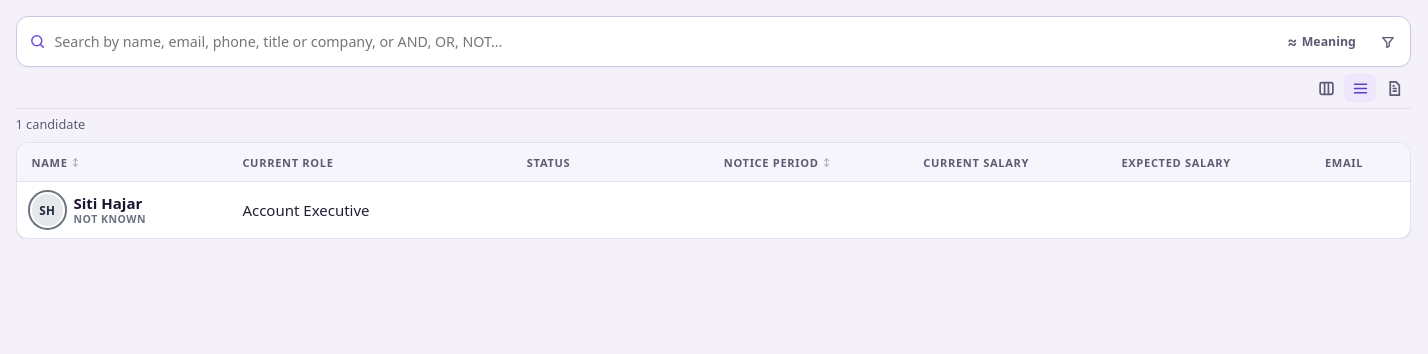
Test case: searching candidates by meaning › reads AND, OR, NOT and quotes as words when searching by meaning, and says they work in the word search
Expected: the link "Siti Hajar" is shown, x1=74 y1=193 x2=142 y2=213
Click the button "≈ Meaning": (1321, 42) x1=1277 y1=27 x2=1366 y2=56
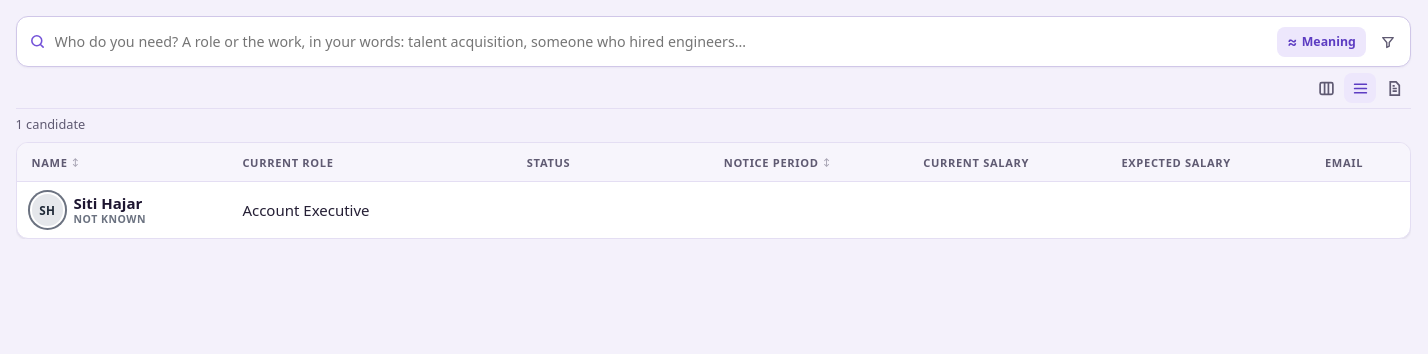
Replace the text in the field named "Search candidates by meaning" with "\"talent acquisition\" -agency": (662, 42) x1=52 y1=22 x2=1272 y2=62
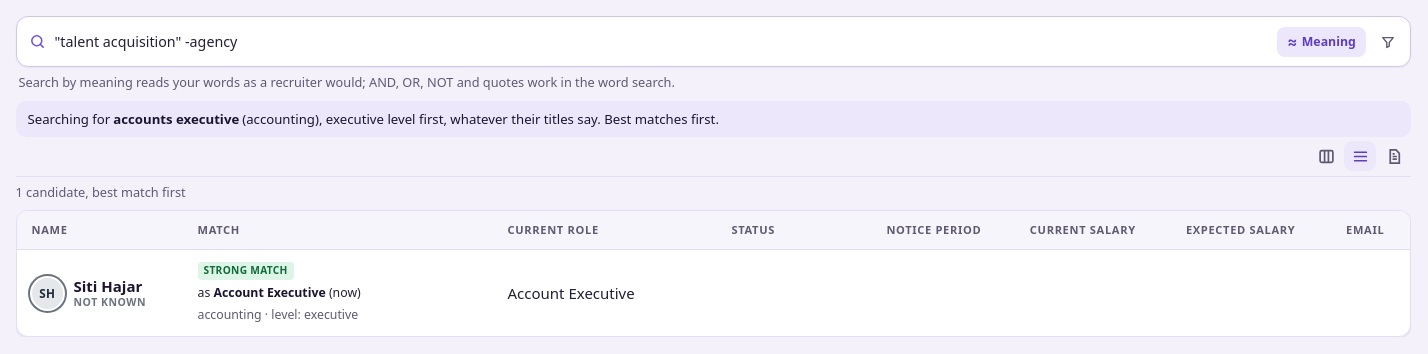
Expected: the text "Boolean" is not shown
Now the text "work in the word search" shows "Search by meaning reads your words as a recruiter would; AND, OR, NOT and quotes work in the word search.", box x1=18 y1=73 x2=675 y2=91
Click the button "≈ Meaning": (1321, 42) x1=1277 y1=27 x2=1366 y2=56
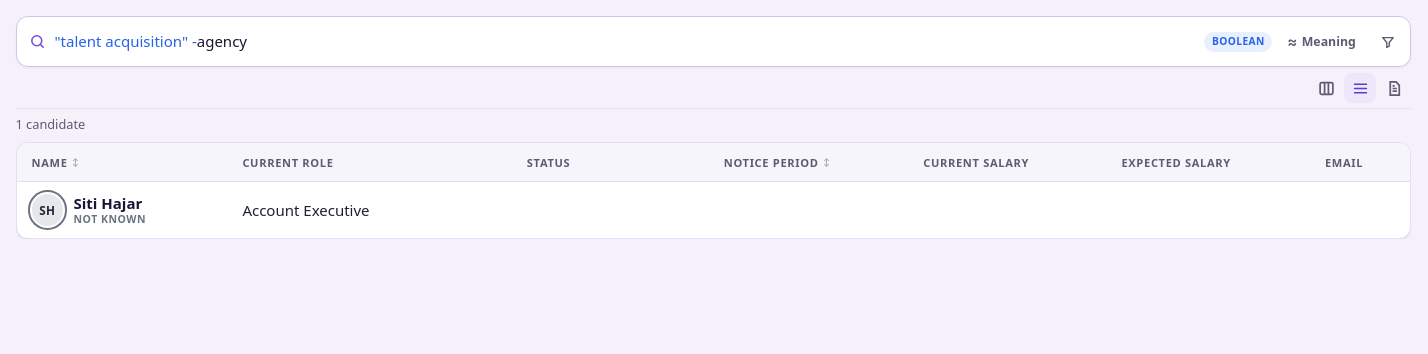
Now the text "Boolean" is shown, box x1=1204 y1=32 x2=1272 y2=52
Now the text "work in the word search" is gone
